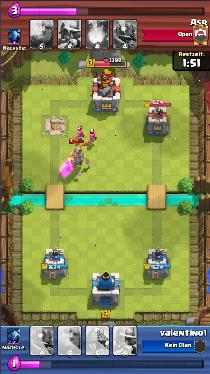EArcher: (87, 129, 96, 145), (77, 125, 85, 142)
EKingTower: (94, 69, 119, 111)
EPrince: (70, 147, 84, 165)
EnemyPrincessTower: (146, 104, 167, 134)
OwnKingTower: (93, 273, 118, 305)
OwnPrincessTower: (144, 247, 170, 276), (41, 250, 67, 278)
TowerDown: (42, 116, 65, 134)
